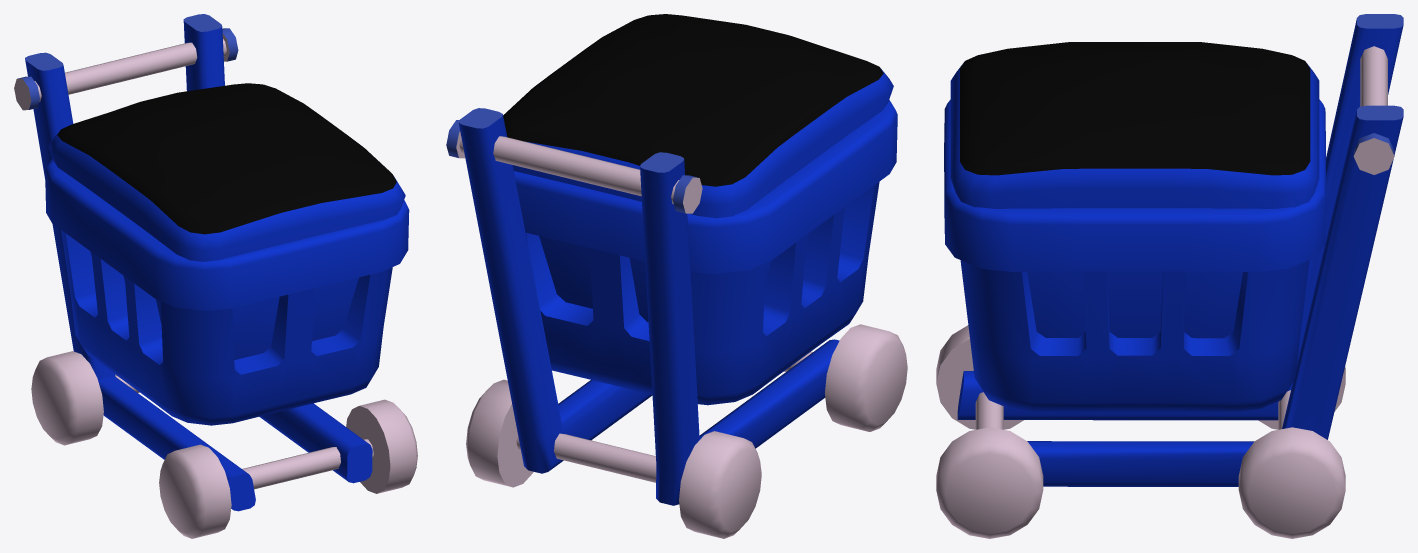
Rendered from Cart_hidden.fbx.
The picture shows the model from 3 angles, left to right: view 1: azimuth 30°, elevation 25°; view 2: azimuth 150°, elevation 25°; view 3: azimuth 270°, elevation 25°; orthographic projection. The views are drawn at different scales.
Visible parts, largest first — view 1: bag.002, cart_hidden; view 2: bag.002, cart_hidden; view 3: bag.002, cart_hidden.
Boxes of the visible parts, box(x1,y1,x2,y2) form: bag.002: box(45, 83, 409, 425); cart_hidden: box(14, 14, 417, 538); bag.002: box(503, 14, 897, 405); cart_hidden: box(446, 108, 907, 538); bag.002: box(944, 42, 1325, 411); cart_hidden: box(936, 14, 1403, 538).
Bounding box in the file's own units: 103 × 141 × 137.
